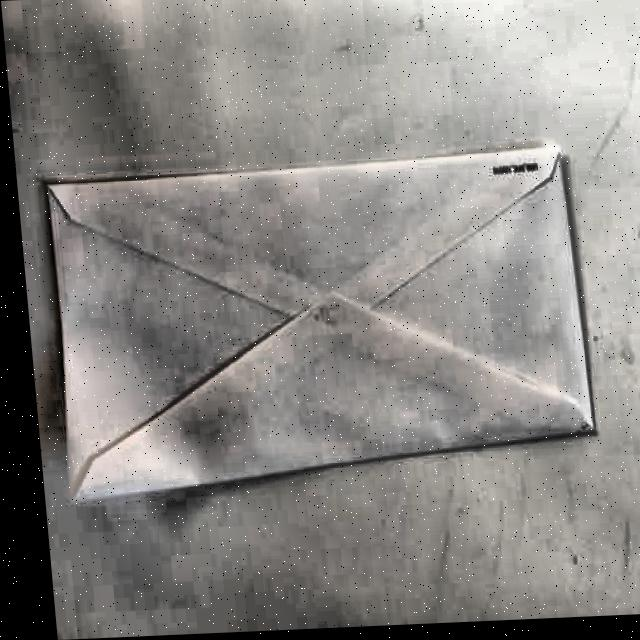paper: (40, 151, 599, 503)
